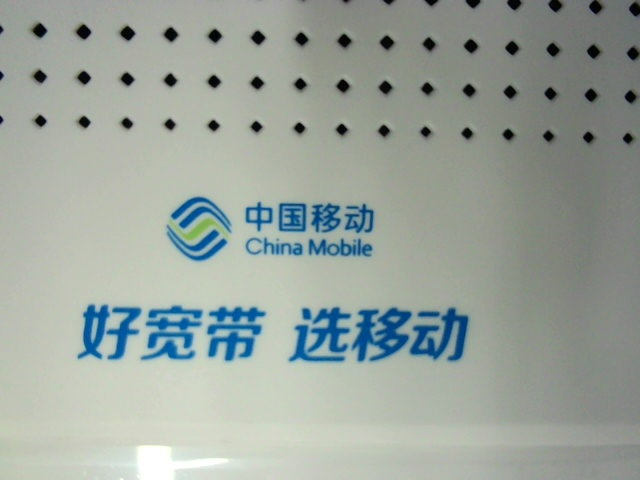AA_ChinaMobile: (63, 184, 475, 371)
